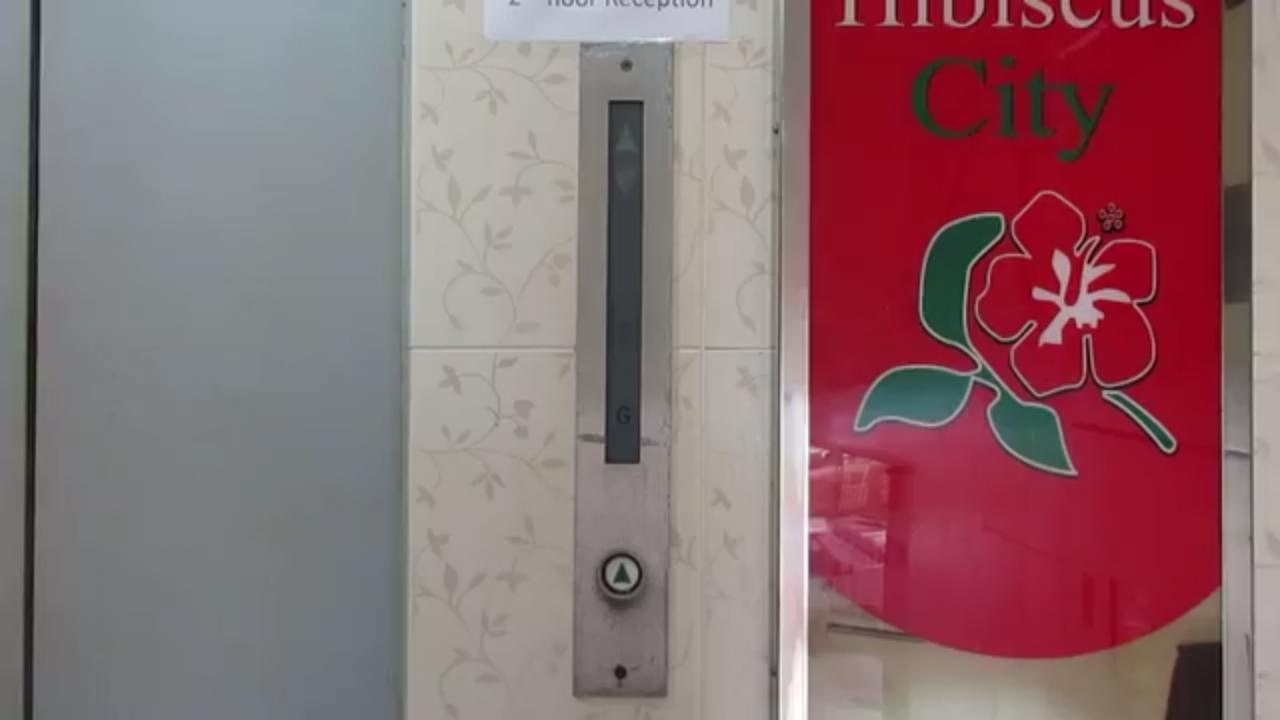up: (600, 551, 643, 602)
